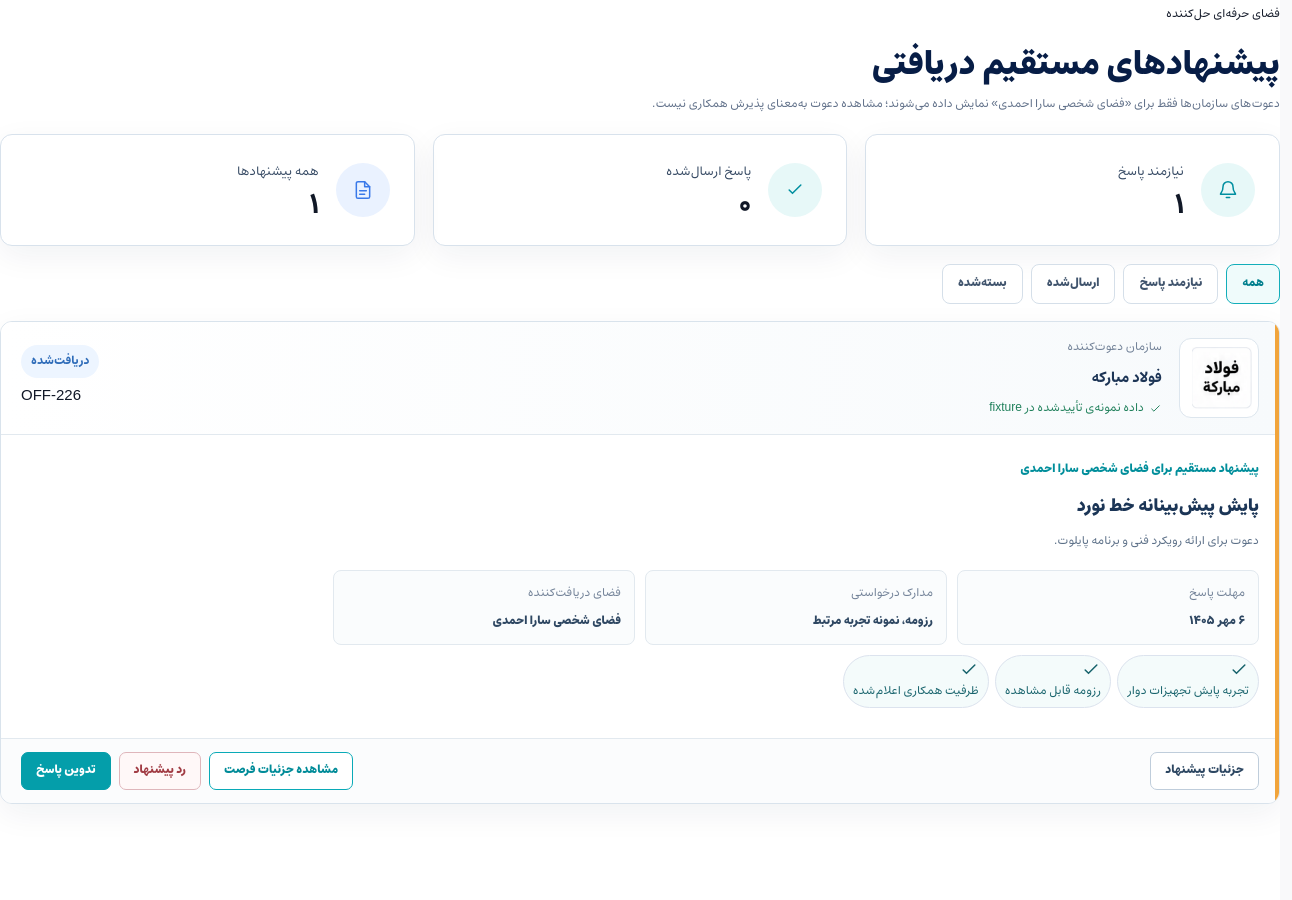
جریان پاسخ به پیشنهاد سازمان در نسخه ۲۴ › پذیرش دعوت را به تدوین پاسخ مستقل و غیرانحصاری هدایت می‌کند
Click the button "جزئیات پیشنهاد" at (1205,771), box [1150,752,1259,790]
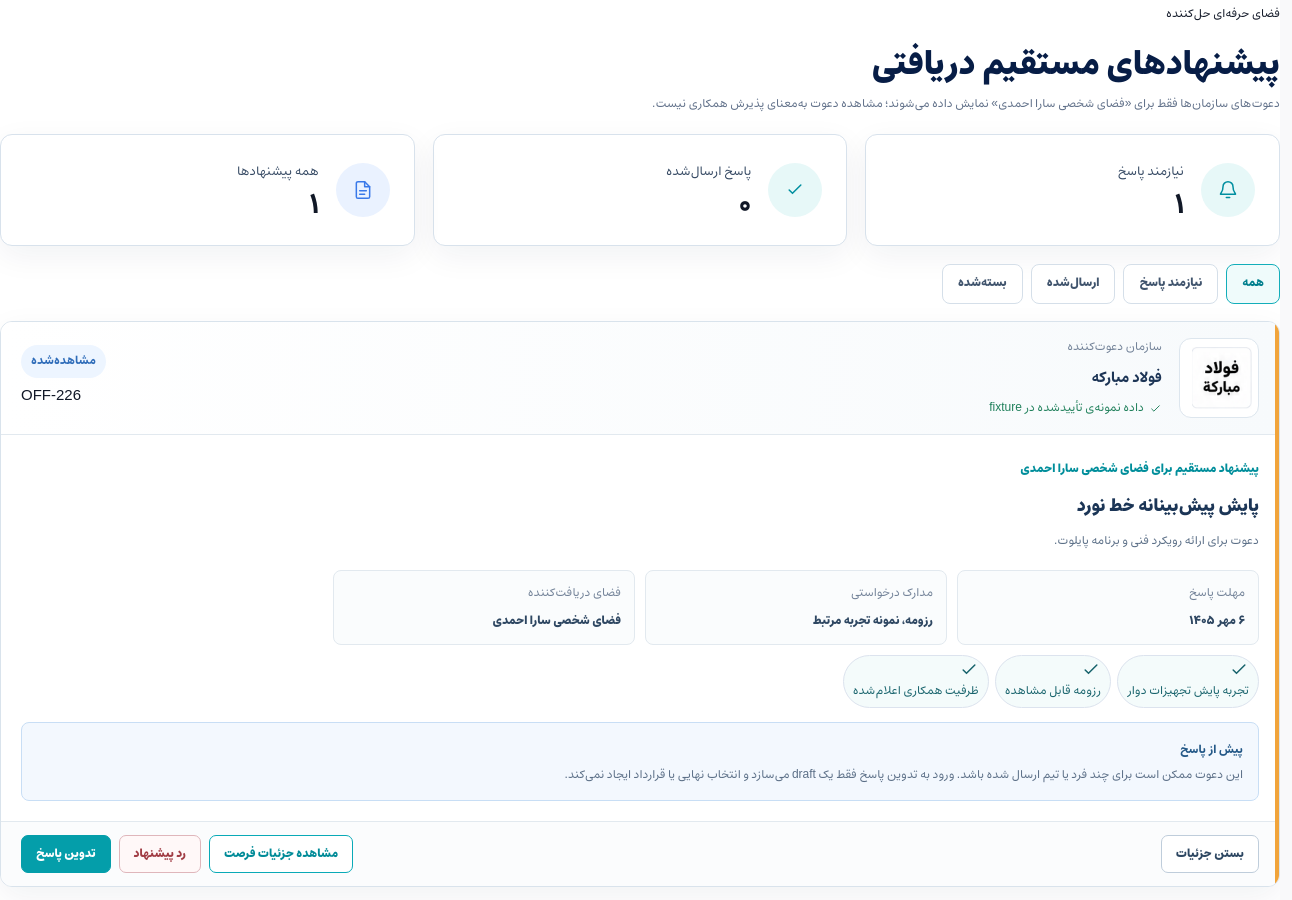
Expected: the text "انتخاب نهایی یا قرارداد ایجاد نمی‌کند" is shown, [564,766,1243,784]
